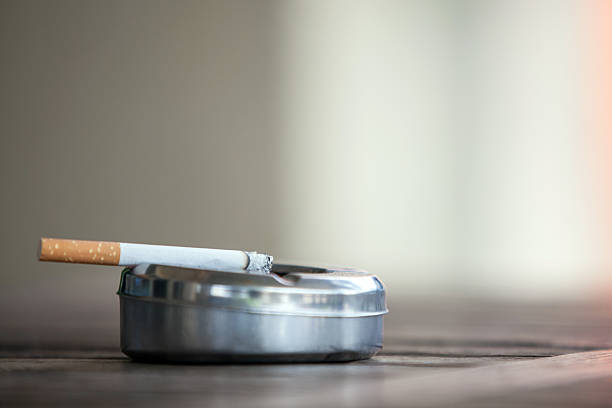cigarette: (32, 233, 277, 280)
